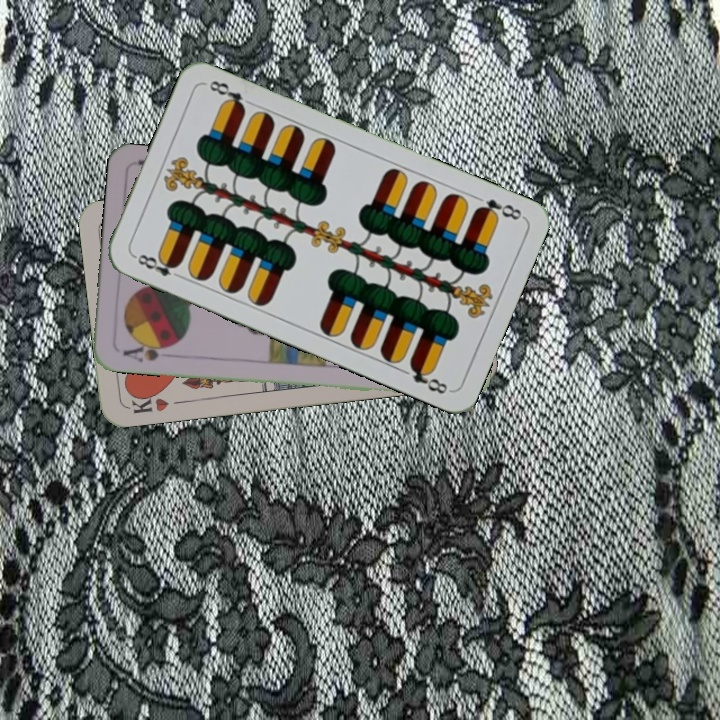E8: (129, 250, 185, 282), (471, 194, 526, 223)
HK: (124, 387, 171, 416)
SA: (119, 338, 176, 365)
